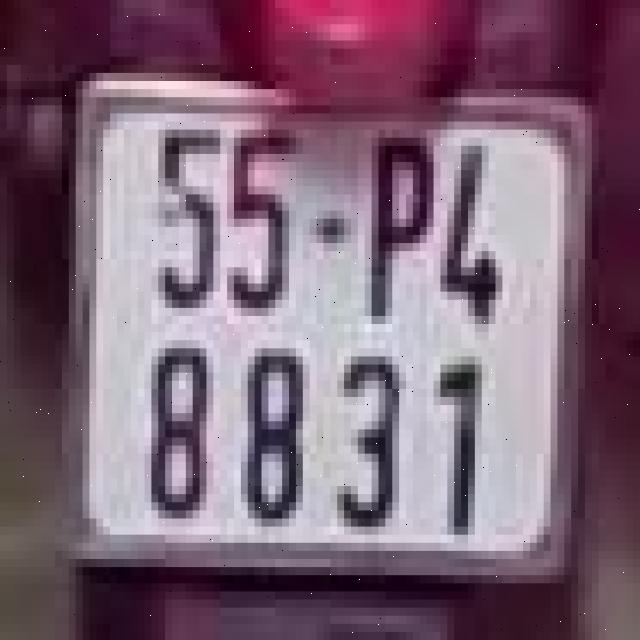1: (423, 332, 506, 551)
3: (333, 324, 402, 551)
4: (437, 122, 506, 340)
5: (141, 113, 224, 324), (227, 110, 303, 336)
8: (231, 328, 313, 531), (141, 324, 210, 527)
P: (365, 122, 440, 348)
